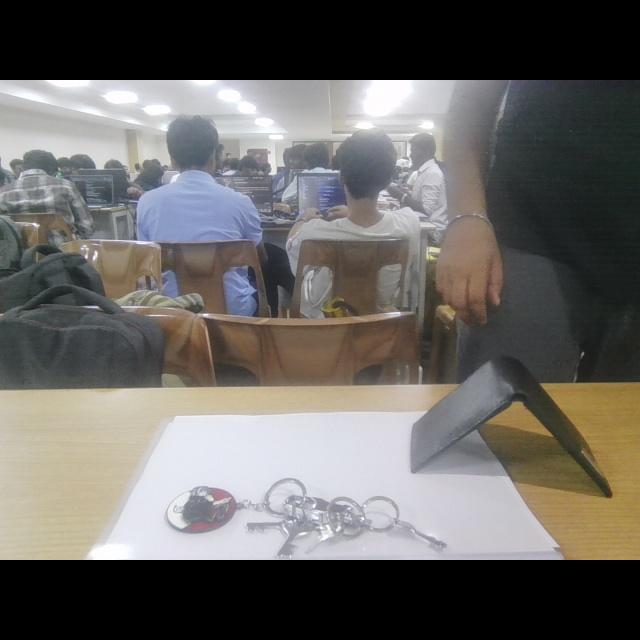keys: (156, 476, 452, 560)
wallet: (405, 339, 637, 498)
